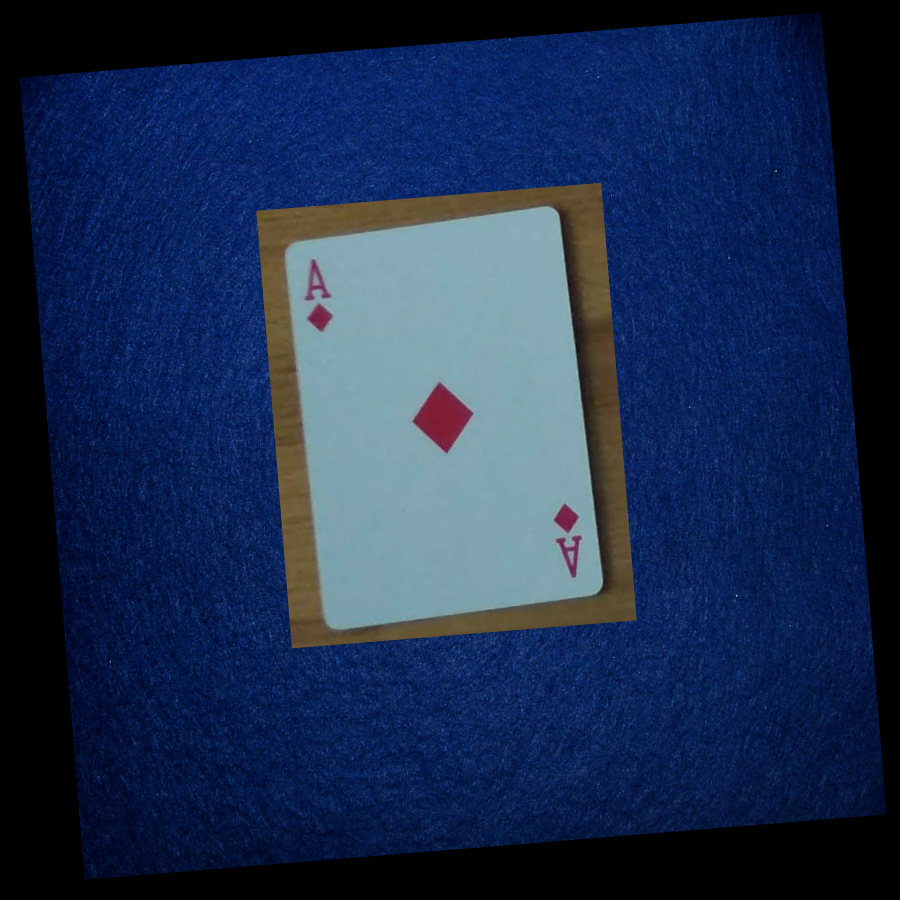1F: (534, 483, 600, 597), (290, 236, 345, 352)
